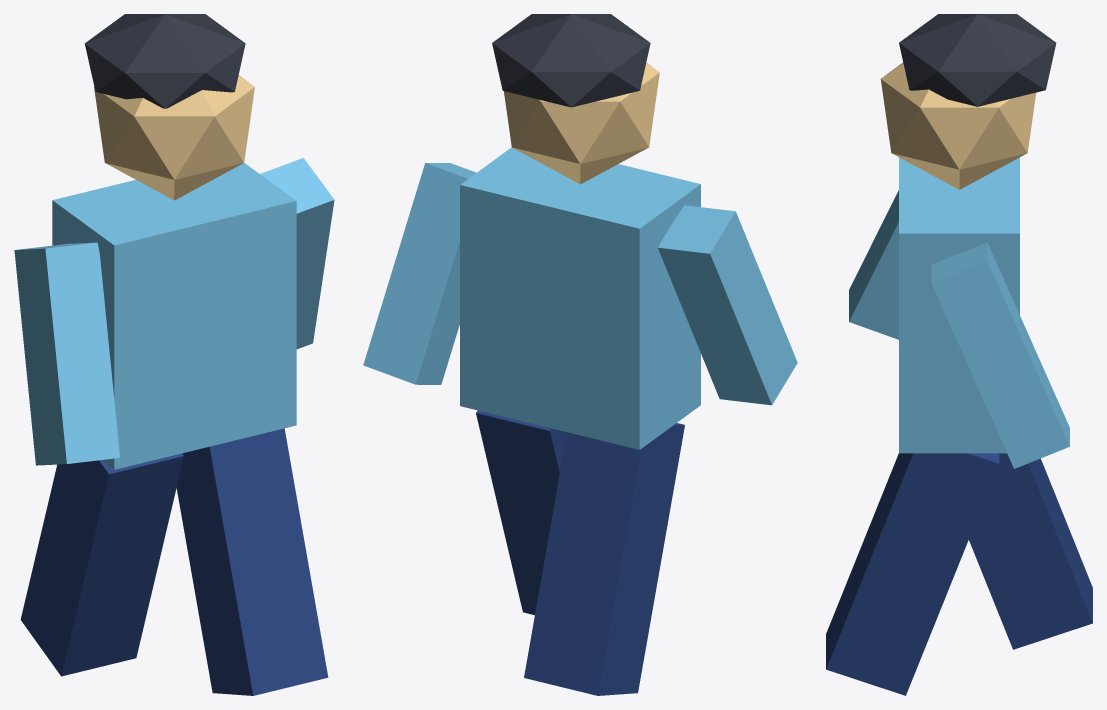
The model's file is people_man.glb.
3 views of the same model, side by side, from view 1: azimuth 30°, elevation 25°; view 2: azimuth 150°, elevation 25°; view 3: azimuth 270°, elevation 25° (orthographic). The views are drawn at different scales.
Parts seen in each view (by area): view 1: people_man; view 2: people_man; view 3: people_man.
Part boxes in pixels (left/top/right/bottom): people_man: left=14, top=14, right=334, bottom=695; people_man: left=363, top=14, right=797, bottom=695; people_man: left=826, top=14, right=1092, bottom=695.
Bounding box in the file's own units: 0.0621 × 0.1167 × 0.044.
